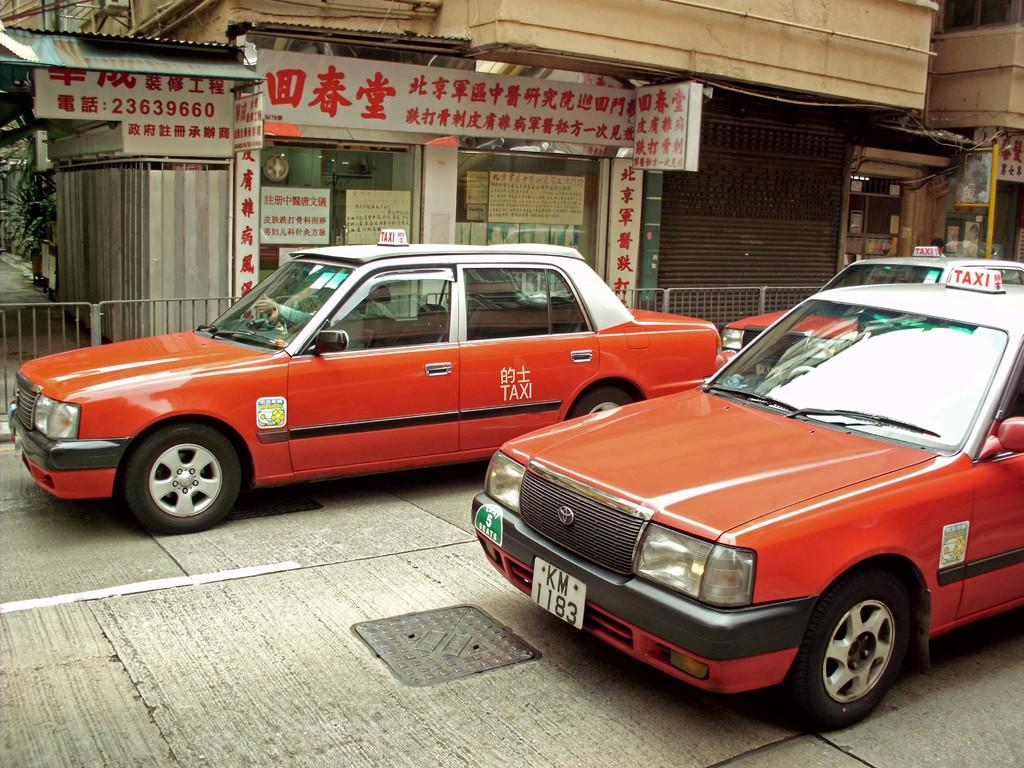taxi: (472, 268, 1024, 732), (8, 230, 723, 536)
